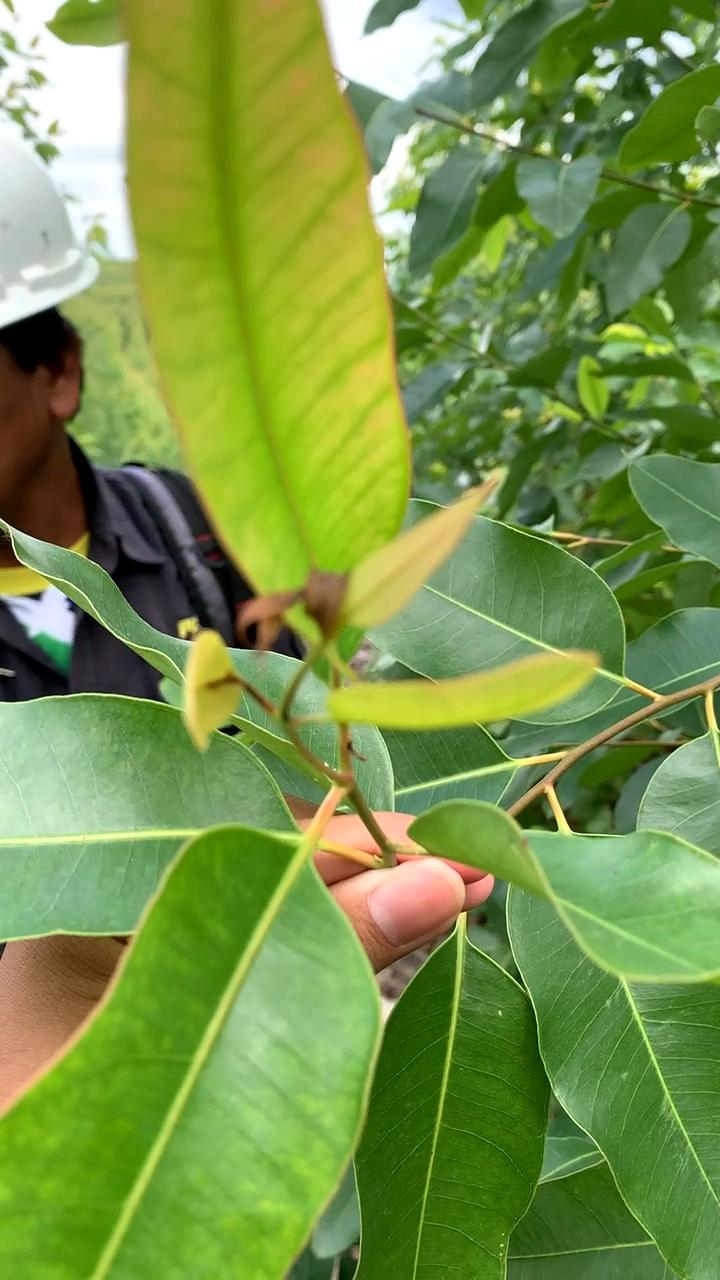Helopeltis-Withered Sprout: (221, 553, 366, 679)
